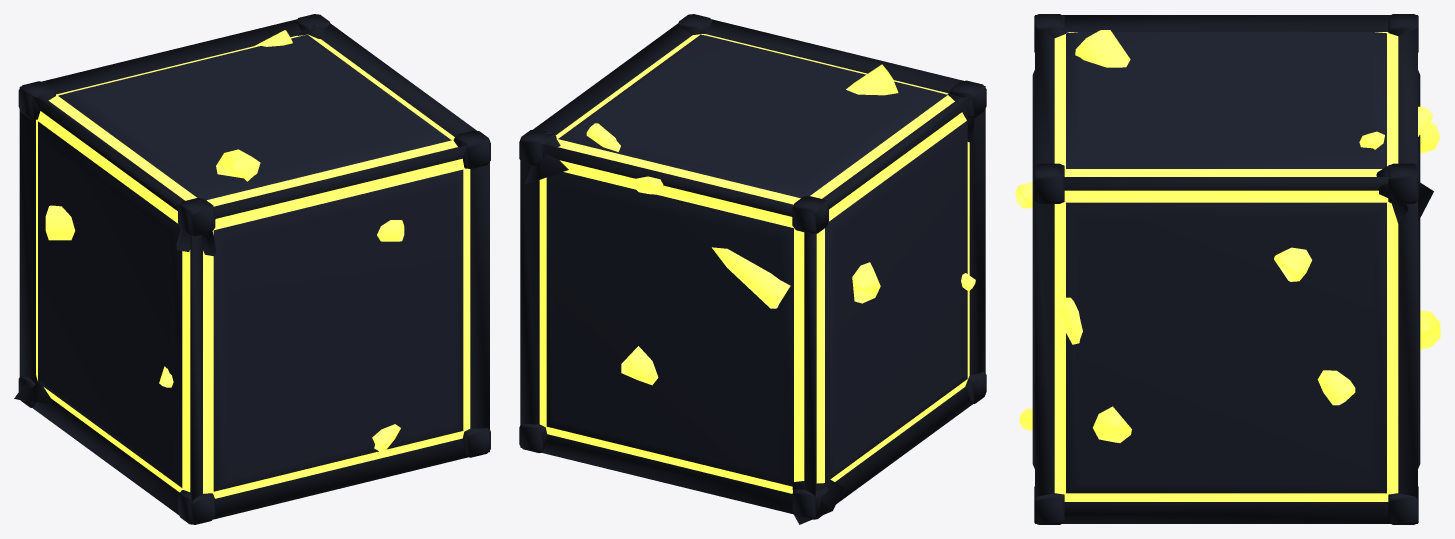
The model's file is escudo_bloque.glb.
3 views of the same model, side by side, from view 1: azimuth 30°, elevation 25°; view 2: azimuth 150°, elevation 25°; view 3: azimuth 270°, elevation 25° (orthographic). The views are drawn at different scales.
Visible parts, largest first — view 1: escudo_bloque_agrietado, escudo_bloque_sano; view 2: escudo_bloque_agrietado, escudo_bloque_sano; view 3: escudo_bloque_agrietado, escudo_bloque_sano.
Boxes of the visible parts, x1,y1,x2,y2 form: escudo_bloque_agrietado: (14, 19, 490, 524); escudo_bloque_sano: (18, 14, 329, 407); escudo_bloque_agrietado: (519, 14, 986, 524); escudo_bloque_sano: (519, 80, 986, 519); escudo_bloque_agrietado: (1015, 14, 1440, 524); escudo_bloque_sano: (1034, 14, 1418, 203).
Size of the model in its own units: 0.54 by 0.5382 by 0.5334.
